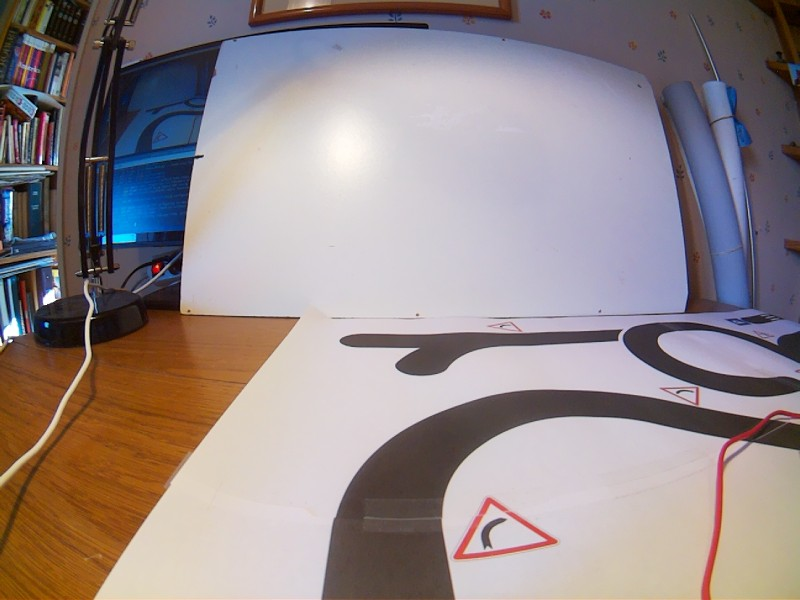rightTurn: (314, 460, 457, 600)
